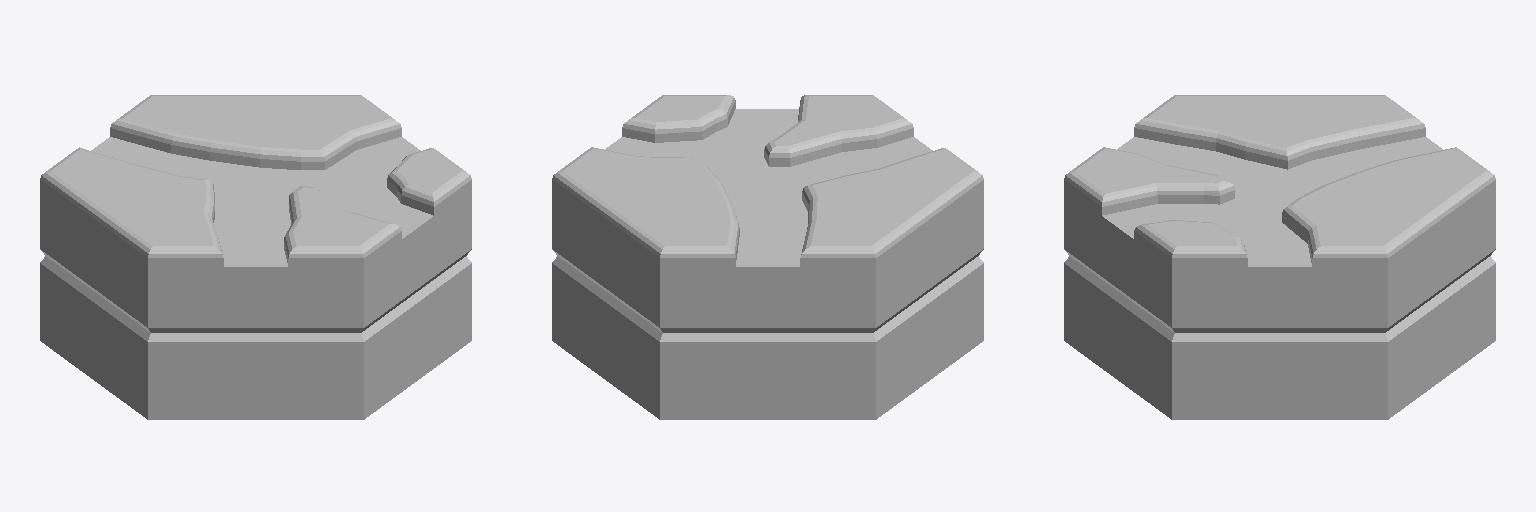
File: hex_rock_roadI_detail.obj
The picture shows the model from 3 angles: view 1: azimuth 30°, elevation 25°; view 2: azimuth 150°, elevation 25°; view 3: azimuth 270°, elevation 25°; orthographic projection.
Visible parts, largest first — view 1: hex_rock_roadI_detail_Cylinder.573; view 2: hex_rock_roadI_detail_Cylinder.573; view 3: hex_rock_roadI_detail_Cylinder.573.
Boxes of the visible parts, box(x1,y1,x2,y2) form: hex_rock_roadI_detail_Cylinder.573: box(40, 95, 471, 419); hex_rock_roadI_detail_Cylinder.573: box(552, 95, 983, 419); hex_rock_roadI_detail_Cylinder.573: box(1064, 95, 1495, 419).
Bounding box in the file's own units: 2 × 1 × 2.31.